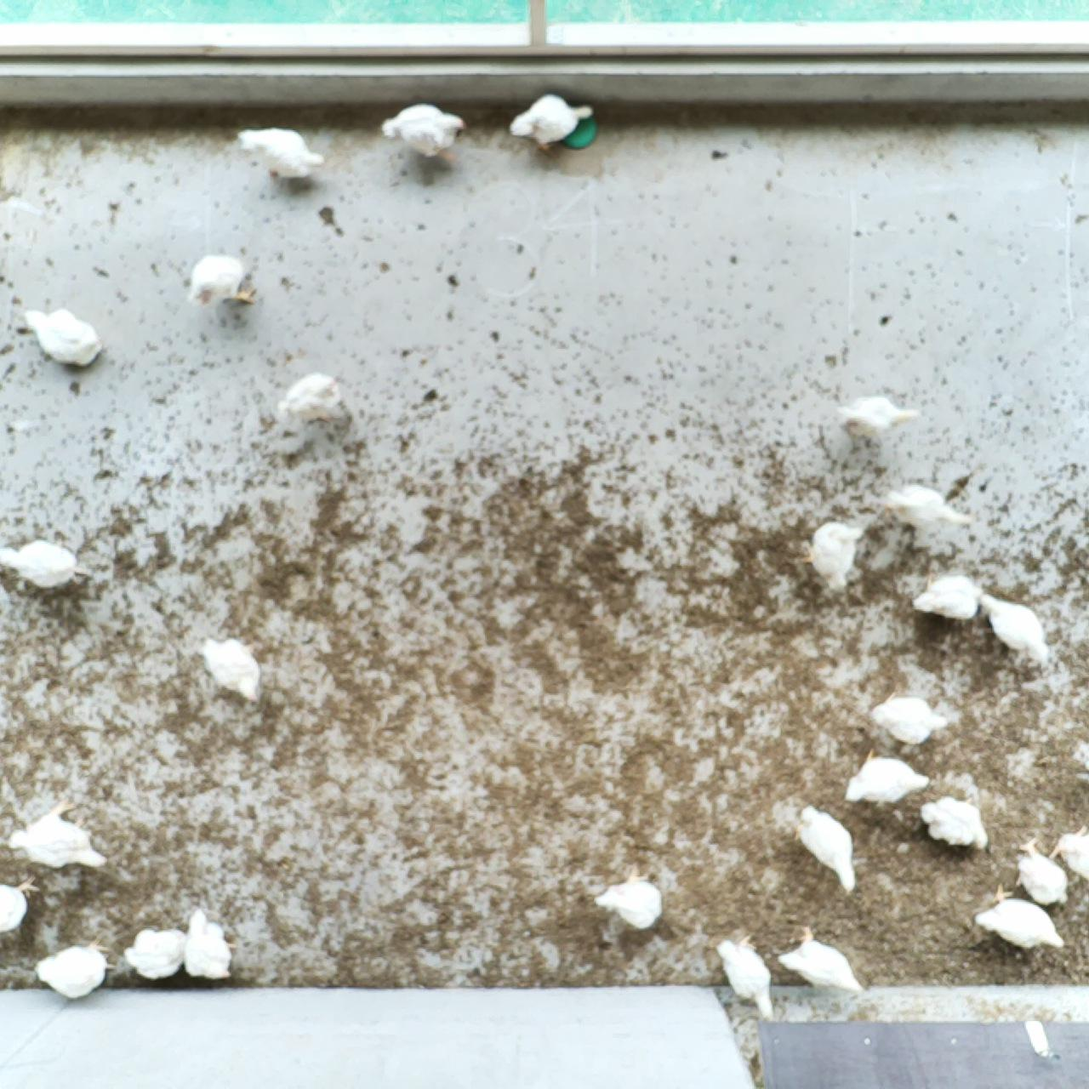chicken: (7, 798, 110, 874), (971, 882, 1068, 952), (773, 925, 865, 997), (714, 928, 778, 1022), (792, 803, 856, 896), (232, 121, 326, 182), (22, 303, 106, 371), (381, 101, 468, 165), (592, 861, 666, 933), (510, 93, 597, 154), (847, 746, 932, 807), (37, 935, 117, 999), (979, 594, 1051, 665), (798, 516, 864, 592), (880, 480, 972, 532), (197, 632, 262, 705), (870, 688, 950, 746), (180, 905, 239, 983), (837, 391, 926, 442), (1009, 836, 1070, 907), (919, 795, 990, 855), (0, 535, 77, 590), (187, 251, 258, 308), (124, 922, 189, 981), (908, 570, 981, 621), (279, 370, 345, 421), (0, 867, 46, 935), (1048, 824, 1089, 882)
